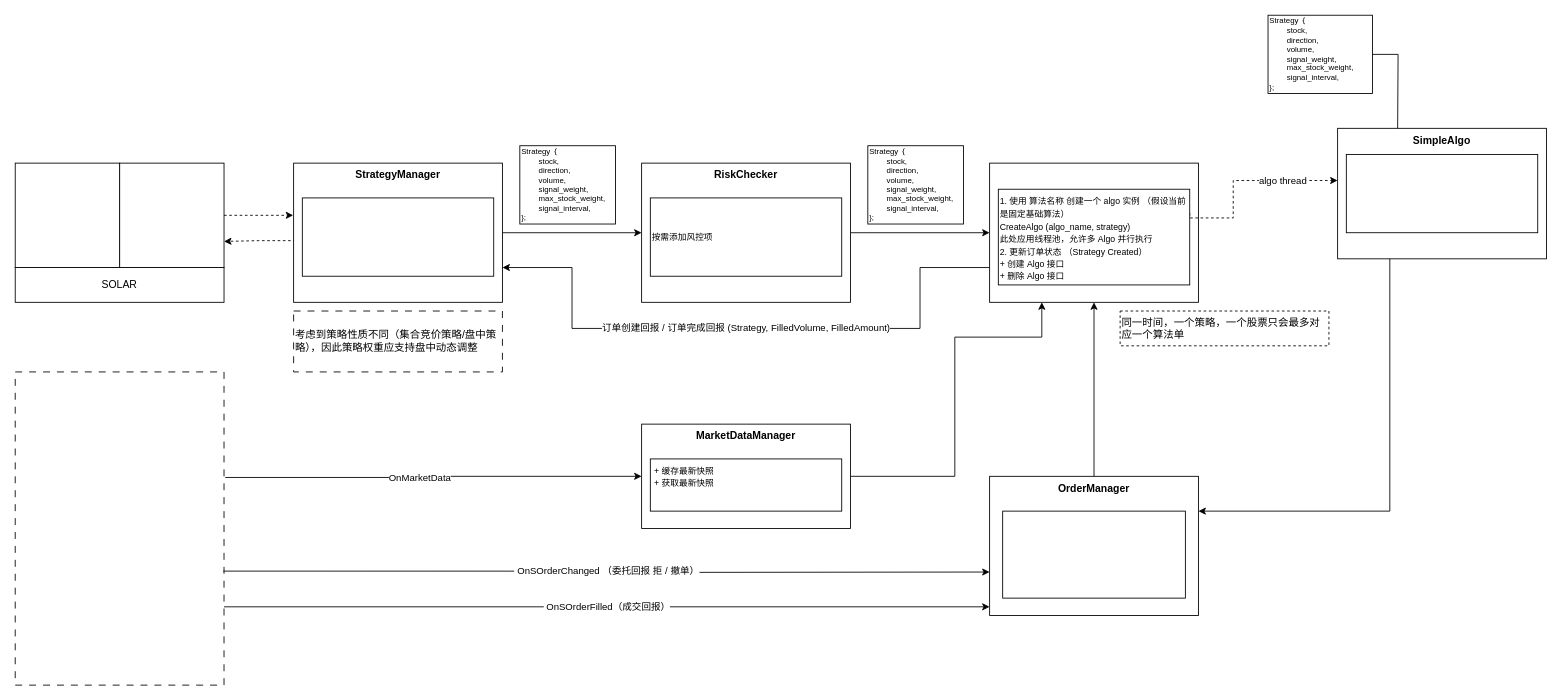
This 1562x700 diagram has some shape labels left out. The box of each missing label's shape, as (x1, y1, x2, y2) in pixels:
+ 下单接口 + 撤单接口 + 订单维护（订单 - Algo 映射关系 ）: (1002, 510, 1185, 598)
1. 根据信号和行情 lastprice 计算当前可分配股数 2. 获取信号权重 3. 获取信号最小时间间隔 4. 获取单股最大权重: (301, 197, 494, 276)
AlgoManager: (989, 162, 1198, 302)
PolicySever: (14, 371, 224, 685)
TSS（多策略）: (119, 162, 224, 268)
Upstream Factors: (14, 162, 120, 268)
根据 Strategy 对象，Algo 逻辑 和 行情的触发执行下撤单逻辑。: (1345, 154, 1538, 233)
